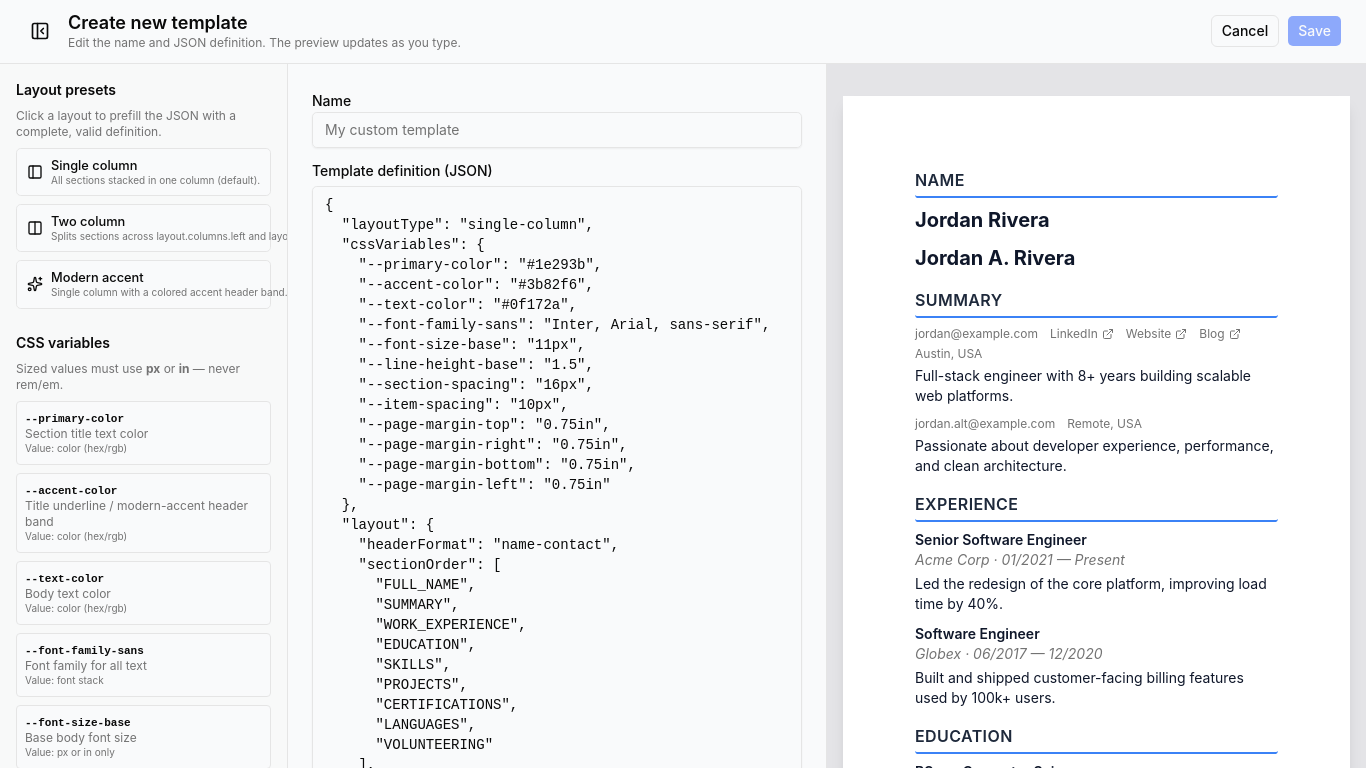
it: TemplateEditorPage › toggles the instructions sidebar open and closed
Expected: the element with test id "template-editor-sidebar" is shown, [0,64,288,767]
Expected: the heading "CSS variables" is shown, [16,334,110,351]
Click the button named "hide instructions".
click(40, 31)  # box [24,15,56,47]
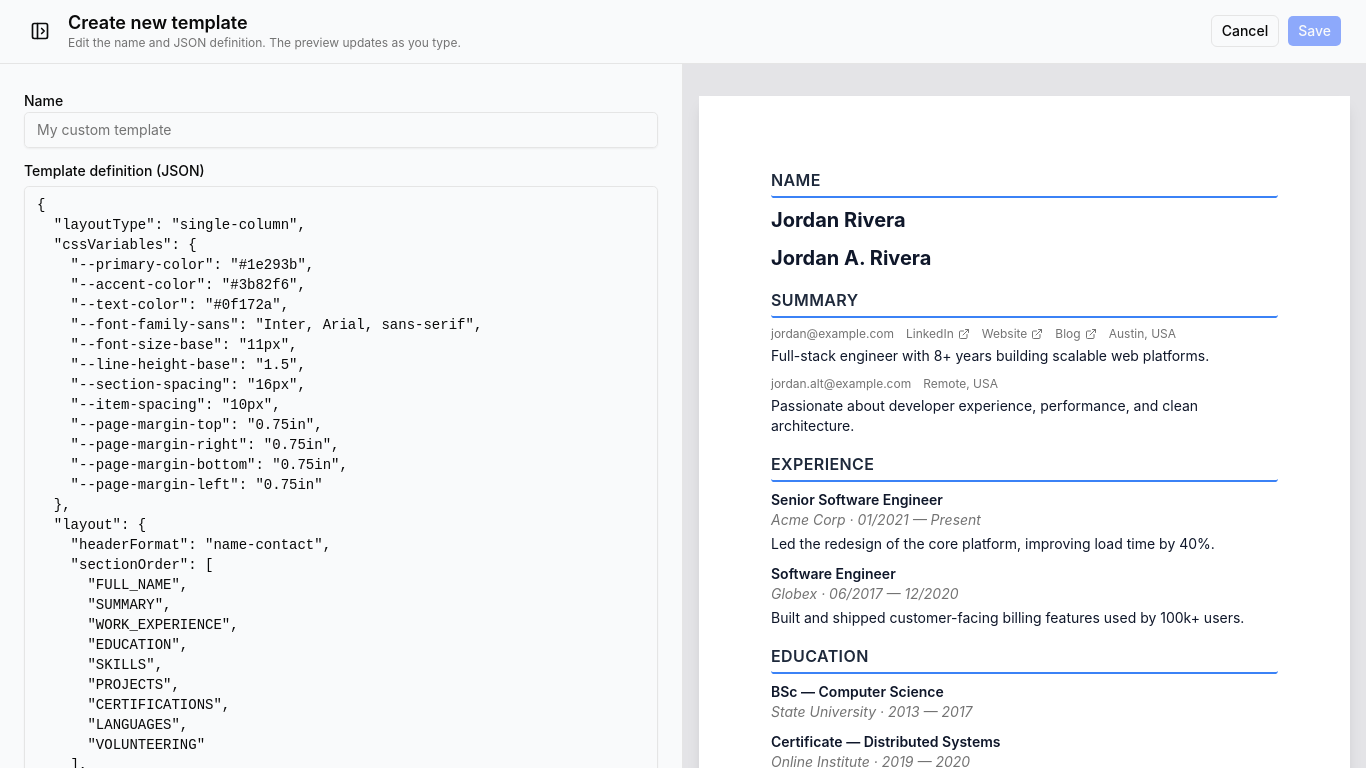
Now the element with test id "template-editor-sidebar" is gone
Click the button named "show instructions".
click(40, 31)  # box [24,15,56,47]
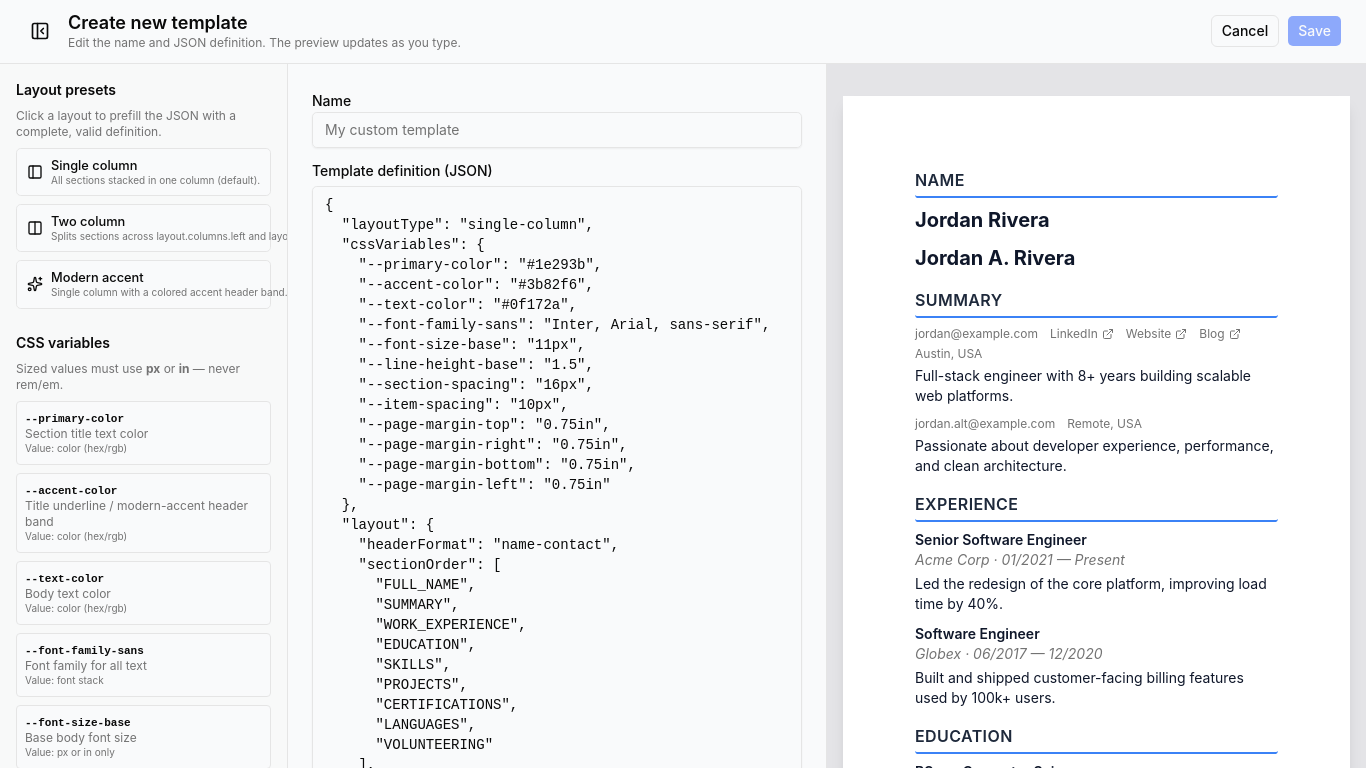
Now the element with test id "template-editor-sidebar" is shown, box [0,64,288,767]
